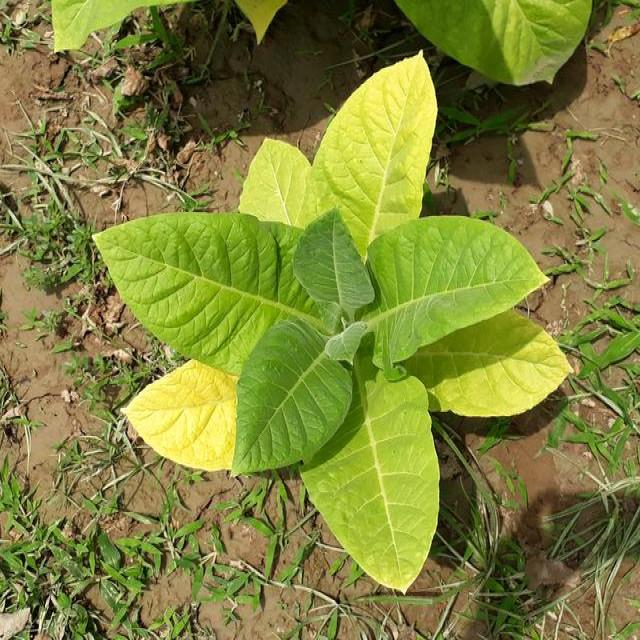crop: (84, 48, 540, 601)
